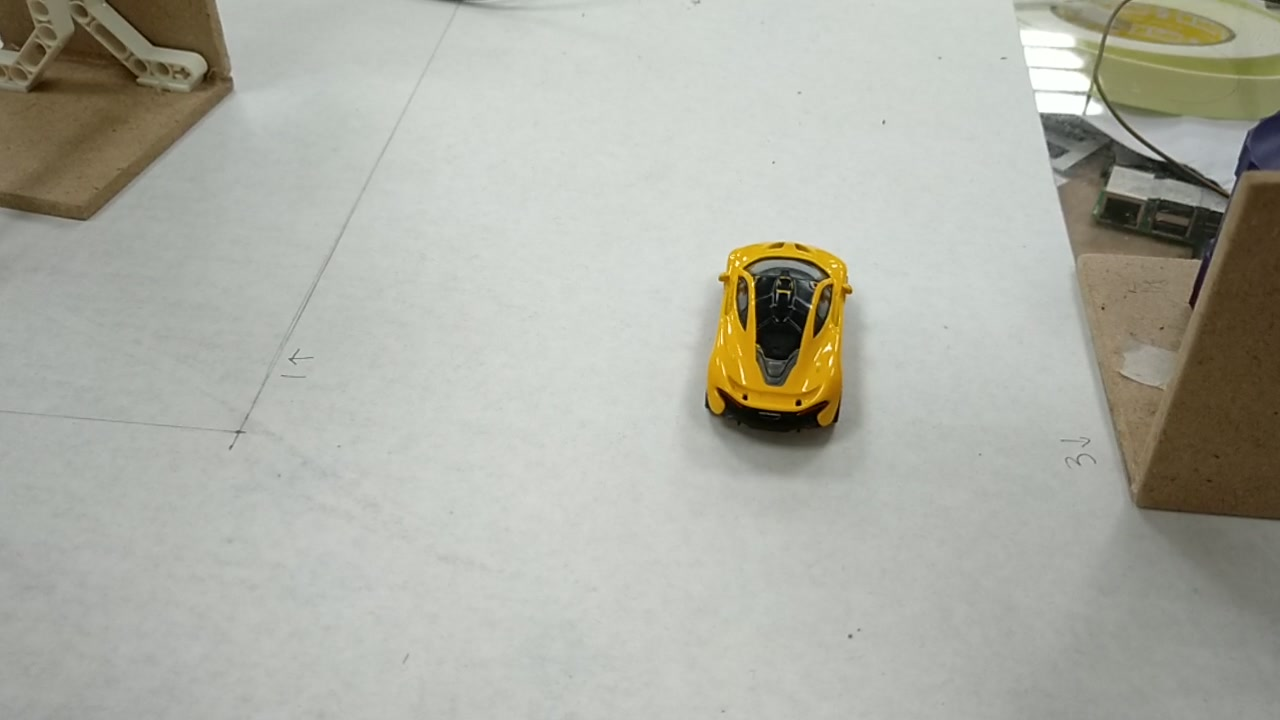car: (703, 245, 847, 432)
